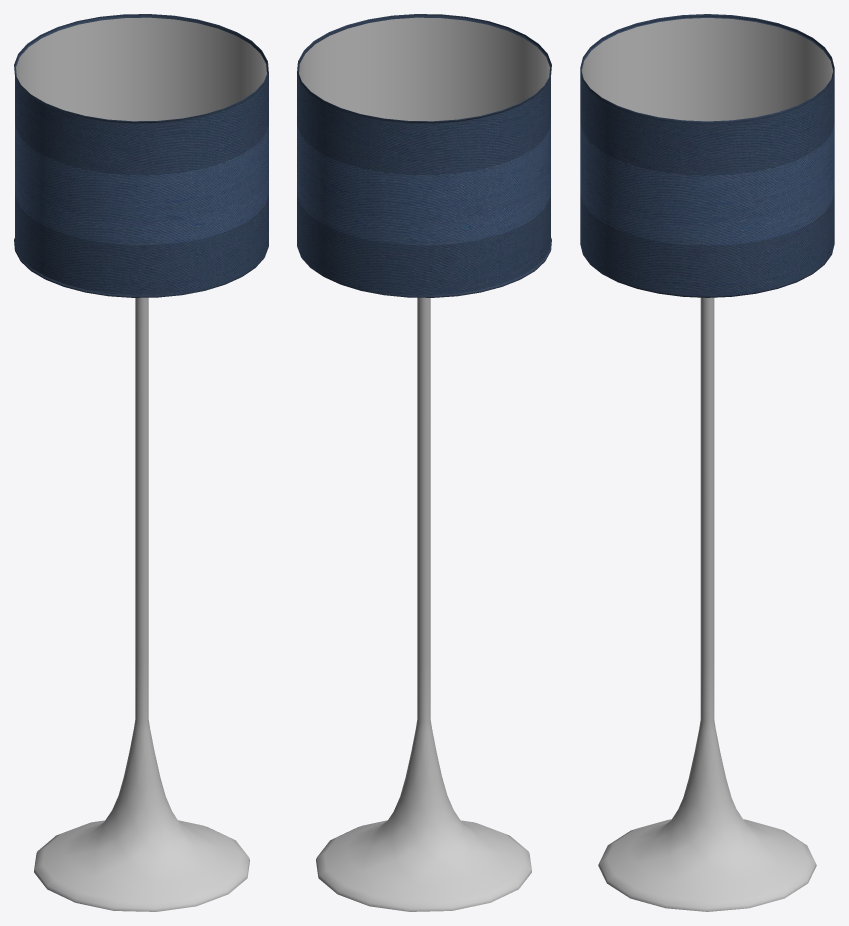
File: floor_lamp.glb
3 views of the same model, side by side, from view 1: azimuth 30°, elevation 25°; view 2: azimuth 150°, elevation 25°; view 3: azimuth 270°, elevation 25° (orthographic).
Parts seen in each view (by area): view 1: LampshaderOuter, LampStand, LampshadeInner; view 2: LampshaderOuter, LampStand, LampshadeInner; view 3: LampshaderOuter, LampStand, LampshadeInner.
Part boxes in pixels (x1,y1,x2,y2): LampshaderOuter: (14,14,268,297); LampStand: (34,297,249,911); LampshadeInner: (16,17,266,121); LampshaderOuter: (297,14,551,297); LampStand: (316,297,531,911); LampshadeInner: (299,17,549,121); LampshaderOuter: (580,14,834,297); LampStand: (598,297,816,911); LampshadeInner: (581,18,832,121).
Bounding box in the file's own units: 0.4562 × 1.57 × 0.454.
Materials: 2 (2 with a texture image).
